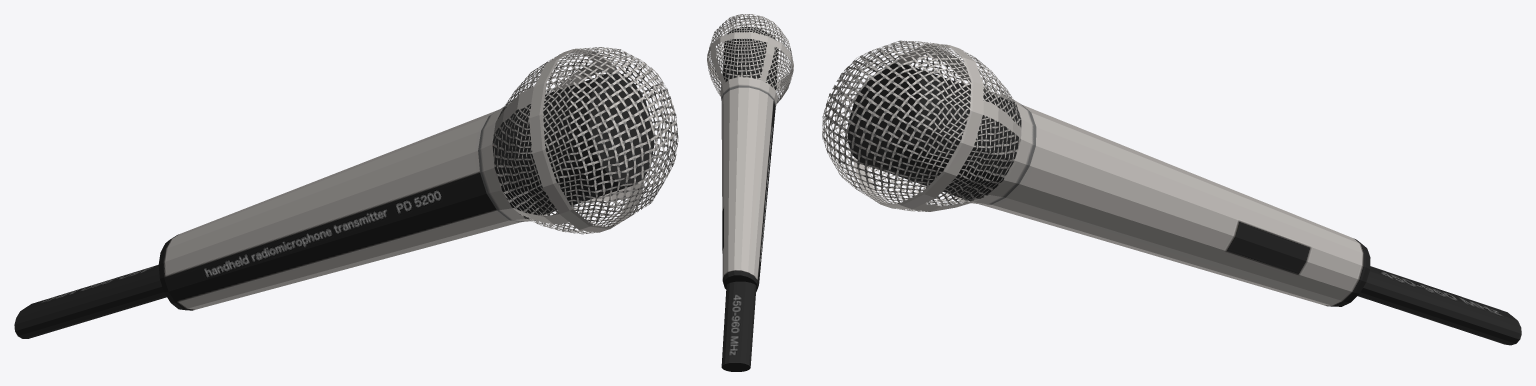
File: mhw_punkduck_microphone.glb
The picture shows the model from 3 angles, left to right: view 1: azimuth 30°, elevation 25°; view 2: azimuth 150°, elevation 25°; view 3: azimuth 270°, elevation 25°; orthographic projection. The views are drawn at different scales.
Visible parts, largest first — view 1: mhw_punkduck_microphone; view 2: mhw_punkduck_microphone; view 3: mhw_punkduck_microphone.
Part boxes in pixels (x1,y1,x2,y2): mhw_punkduck_microphone: (14, 47, 678, 338); mhw_punkduck_microphone: (707, 14, 793, 371); mhw_punkduck_microphone: (822, 40, 1521, 345).
Size of the model in its own units: 0.1409 by 0.1589 by 0.2362.
Materials: 1 (1 with a texture image).
